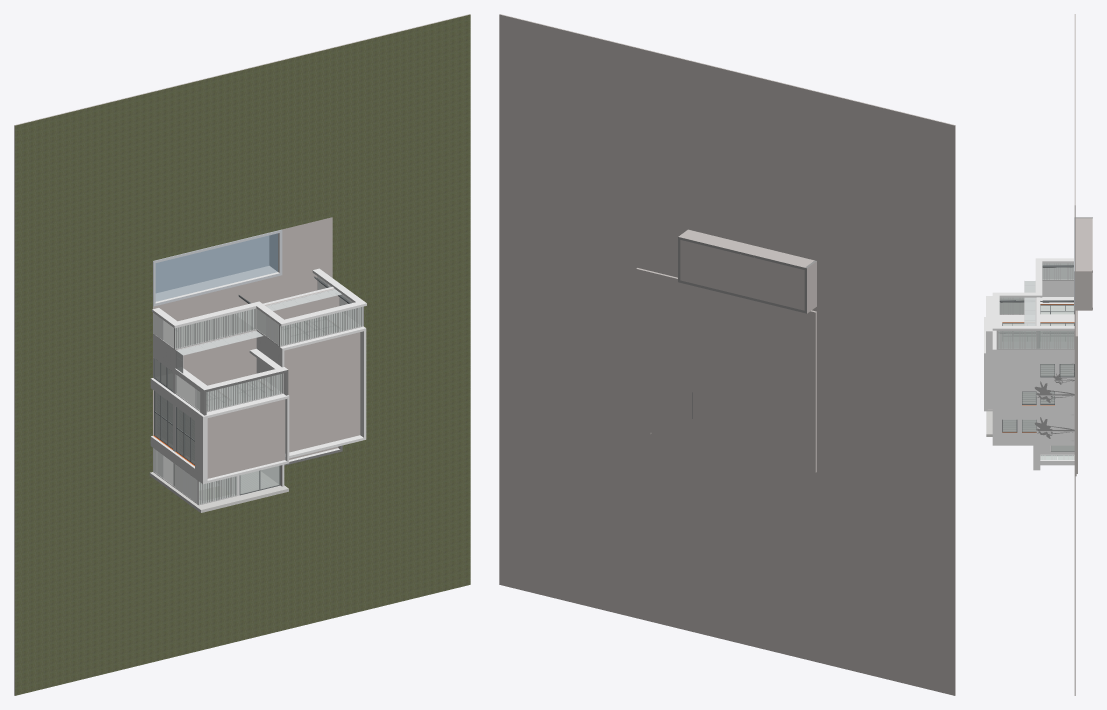
The model's file is villa21_low.glb.
The picture shows the model from 3 angles, left to right: view 1: azimuth 30°, elevation 25°; view 2: azimuth 150°, elevation 25°; view 3: azimuth 270°, elevation 25°; orthographic projection. The views are drawn at different scales.
Parts seen in each view (by area): view 1: Obj.13015:1, Obj.13015, Obj.10196:1, Obj.19354, Obj.19948, Obj.19862, Obj.11544:4, Obj.19878, Obj.12397, Obj.10288:1; view 2: Obj.13015, Obj.10197:1; view 3: Obj.10196:1, Obj.19354, Obj.13015, Obj.19948, Obj.10197:1, Obj.10288:1, Obj.11544:4.
Part boxes in pixels (bbox=[...]): Obj.13015:1: bbox=[15, 14, 470, 695]; Obj.13015: bbox=[14, 14, 470, 695]; Obj.10196:1: bbox=[150, 233, 366, 495]; Obj.19354: bbox=[153, 277, 362, 504]; Obj.19948: bbox=[153, 276, 363, 505]; Obj.19862: bbox=[155, 233, 277, 301]; Obj.11544:4: bbox=[176, 289, 341, 373]; Obj.19878: bbox=[153, 229, 282, 306]; Obj.12397: bbox=[149, 472, 288, 512]; Obj.10288:1: bbox=[153, 276, 351, 495]; Obj.13015: bbox=[499, 14, 955, 695]; Obj.10197:1: bbox=[678, 237, 816, 418]; Obj.10196:1: bbox=[984, 258, 1074, 470]; Obj.19354: bbox=[998, 263, 1074, 459]; Obj.13015: bbox=[988, 14, 1092, 695]; Obj.19948: bbox=[996, 263, 1074, 459]; Obj.10197:1: bbox=[1034, 217, 1092, 451]; Obj.10288:1: bbox=[999, 265, 1074, 432]; Obj.11544:4: bbox=[1024, 281, 1035, 325].
Bounding box in the file's own units: 39.59 × 47.32 × 9.5.
29 materials, 8 textured.
